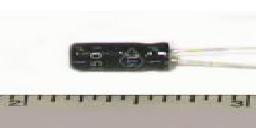Electrolytic-capacitor: (65, 39, 256, 79)
